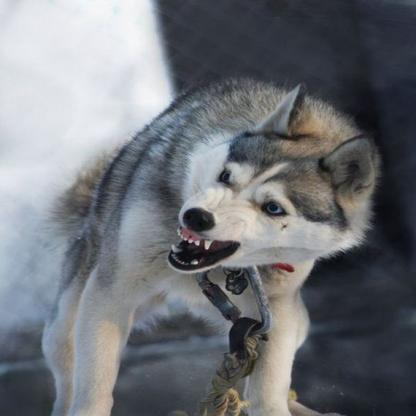dog: (40, 76, 378, 416)
